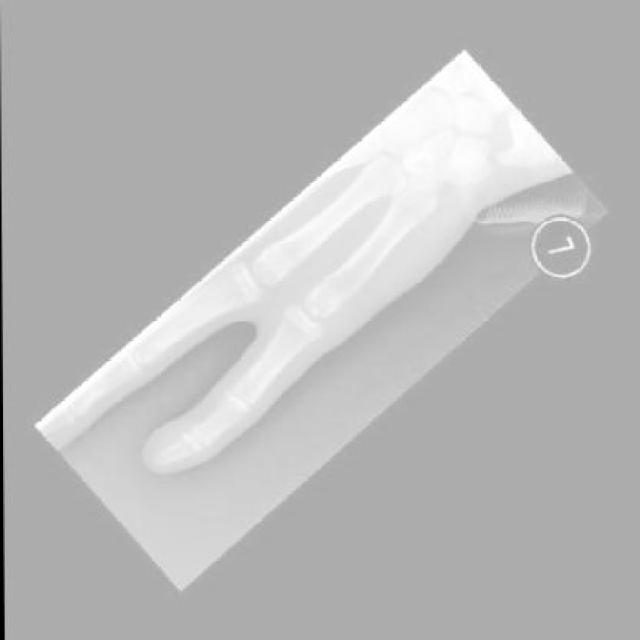Fracture: (172, 431, 200, 460)
